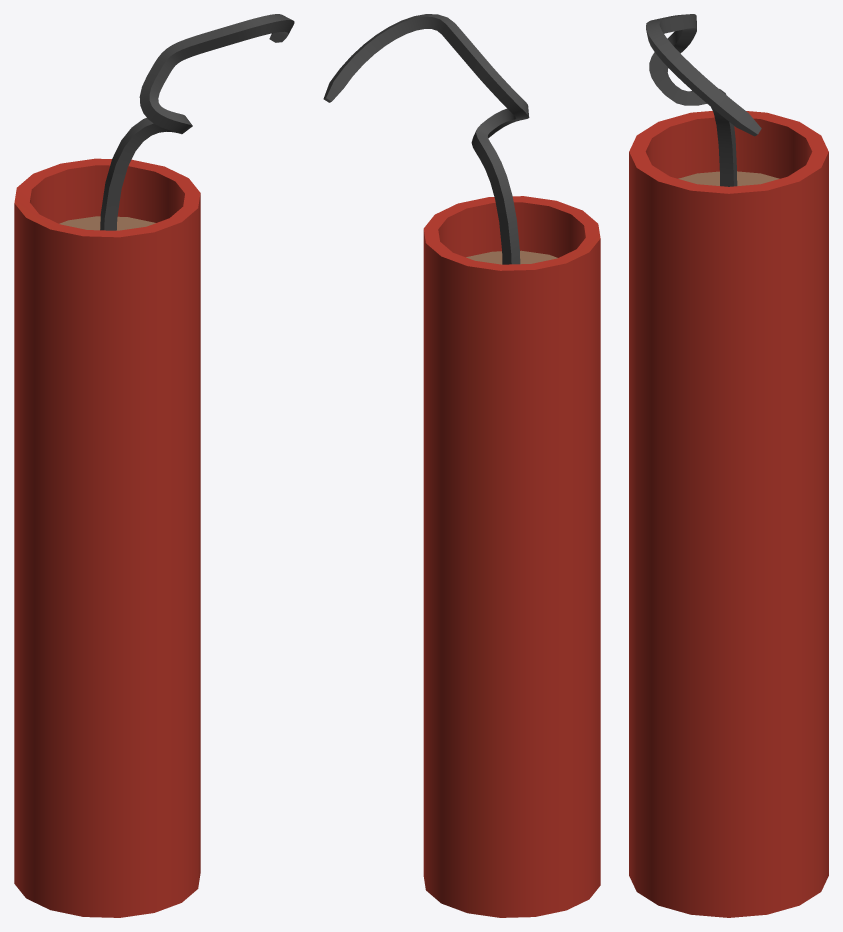
Rendered from dynamite.fbx.
3 renders of one model, left to right at view 1: azimuth 30°, elevation 25°; view 2: azimuth 150°, elevation 25°; view 3: azimuth 270°, elevation 25°, orthographic. The views are drawn at different scales.
Visible parts, largest first — view 1: dynamite; view 2: dynamite; view 3: dynamite.
Part boxes in pixels (<box>): dynamite: <box>14,14,294,917</box>; dynamite: <box>323,14,600,917</box>; dynamite: <box>629,14,828,917</box>.
Size of the model in its own units: 165 by 503 by 100.
3 materials, 3 textured.
